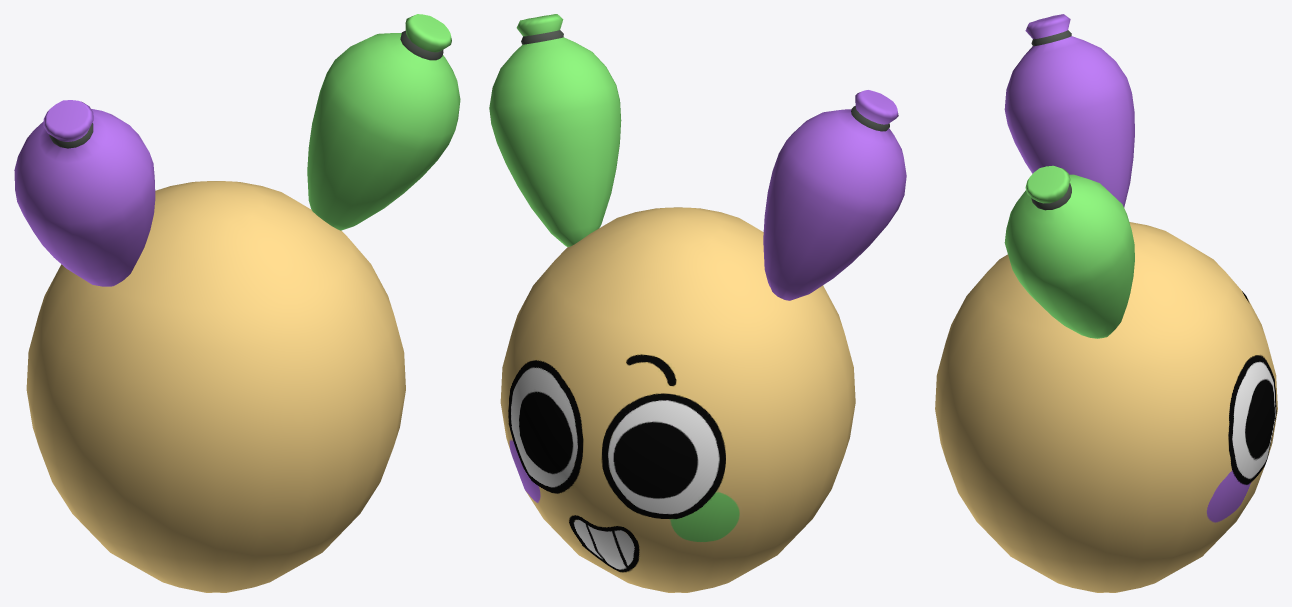
The model's file is Looey.glb.
3 views of the same model, side by side, from view 1: azimuth 30°, elevation 25°; view 2: azimuth 150°, elevation 25°; view 3: azimuth 270°, elevation 25° (orthographic). The views are drawn at different scales.
Parts seen in each view (by area): view 1: Looey Head; view 2: Looey Head; view 3: Looey Head.
Boxes of the visible parts, box(x1,y1,x2,y2) form: Looey Head: box(14, 14, 460, 592); Looey Head: box(489, 14, 906, 592); Looey Head: box(935, 14, 1277, 592).
Size of the model in its own units: 3.3 by 4.04 by 2.54.
Materials: 1 (1 with a texture image).
